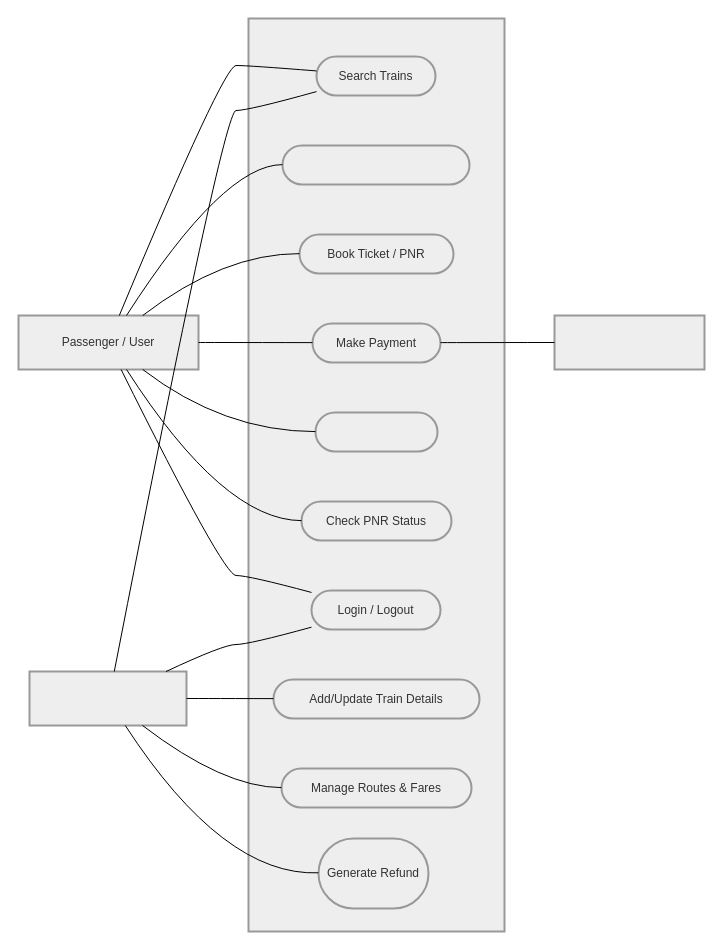
Image size: 722x949. Some labels were removed from this diagram. The box of each missing label's shape, as (x1, y1, x2, y2) in pixels:
Admin / Staff: (28, 670, 187, 726)
Bank System: (553, 314, 705, 370)
Cancel Ticket: (314, 411, 438, 452)
Check Seat Availability: (281, 144, 470, 185)
Train Reservation System: (247, 17, 505, 932)
